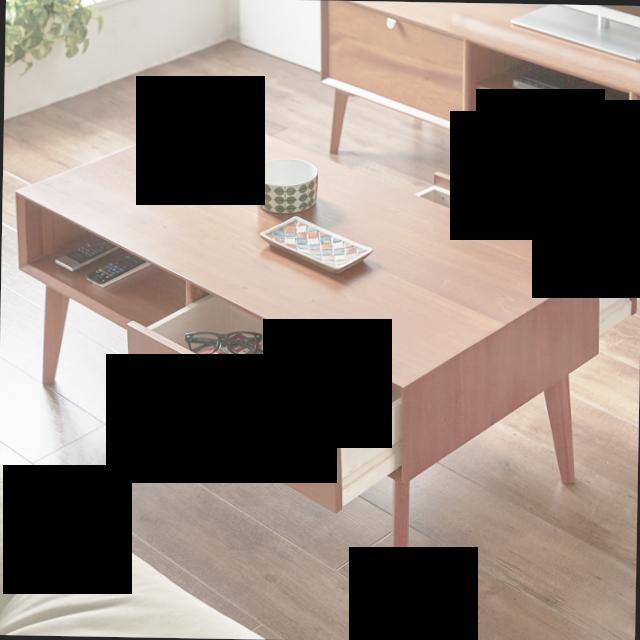vintage desk: (19, 110, 612, 597)
